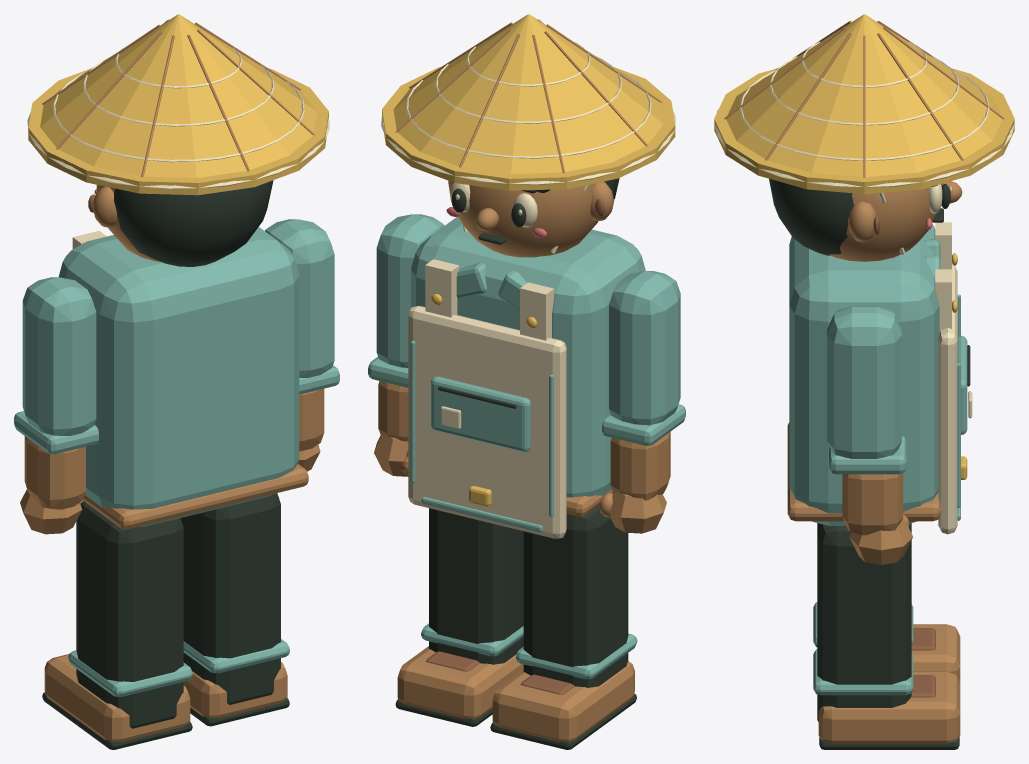
File: SM_Gardener.fbx
3 renders of one model, left to right at view 1: azimuth 30°, elevation 25°; view 2: azimuth 150°, elevation 25°; view 3: azimuth 270°, elevation 25°, orthographic. The views are drawn at different scales.
Visible parts, largest first — view 1: Body, Hat, LegLeft, LegRight, Head; view 2: Body, Hat, LegLeft, LegRight, Head; view 3: Body, Hat, LegRight, Head, LegLeft.
Part boxes in pixels (x1,y1,x2,y2): Body: (14,219,339,534); Hat: (27,14,329,195); LegLeft: (42,501,192,749); LegRight: (180,493,289,726); Head: (88,180,273,266); Body: (368,214,685,538); Hat: (381,14,675,253); LegLeft: (490,505,637,749); LegRight: (395,508,523,726); Head: (446,178,619,257); Body: (787,222,972,564); Hat: (714,14,1014,254); LegRight: (813,523,960,749); Head: (769,178,962,261); LegLeft: (813,602,960,682).
Size of the model in its own units: 0.605 by 1.38 by 0.54.
